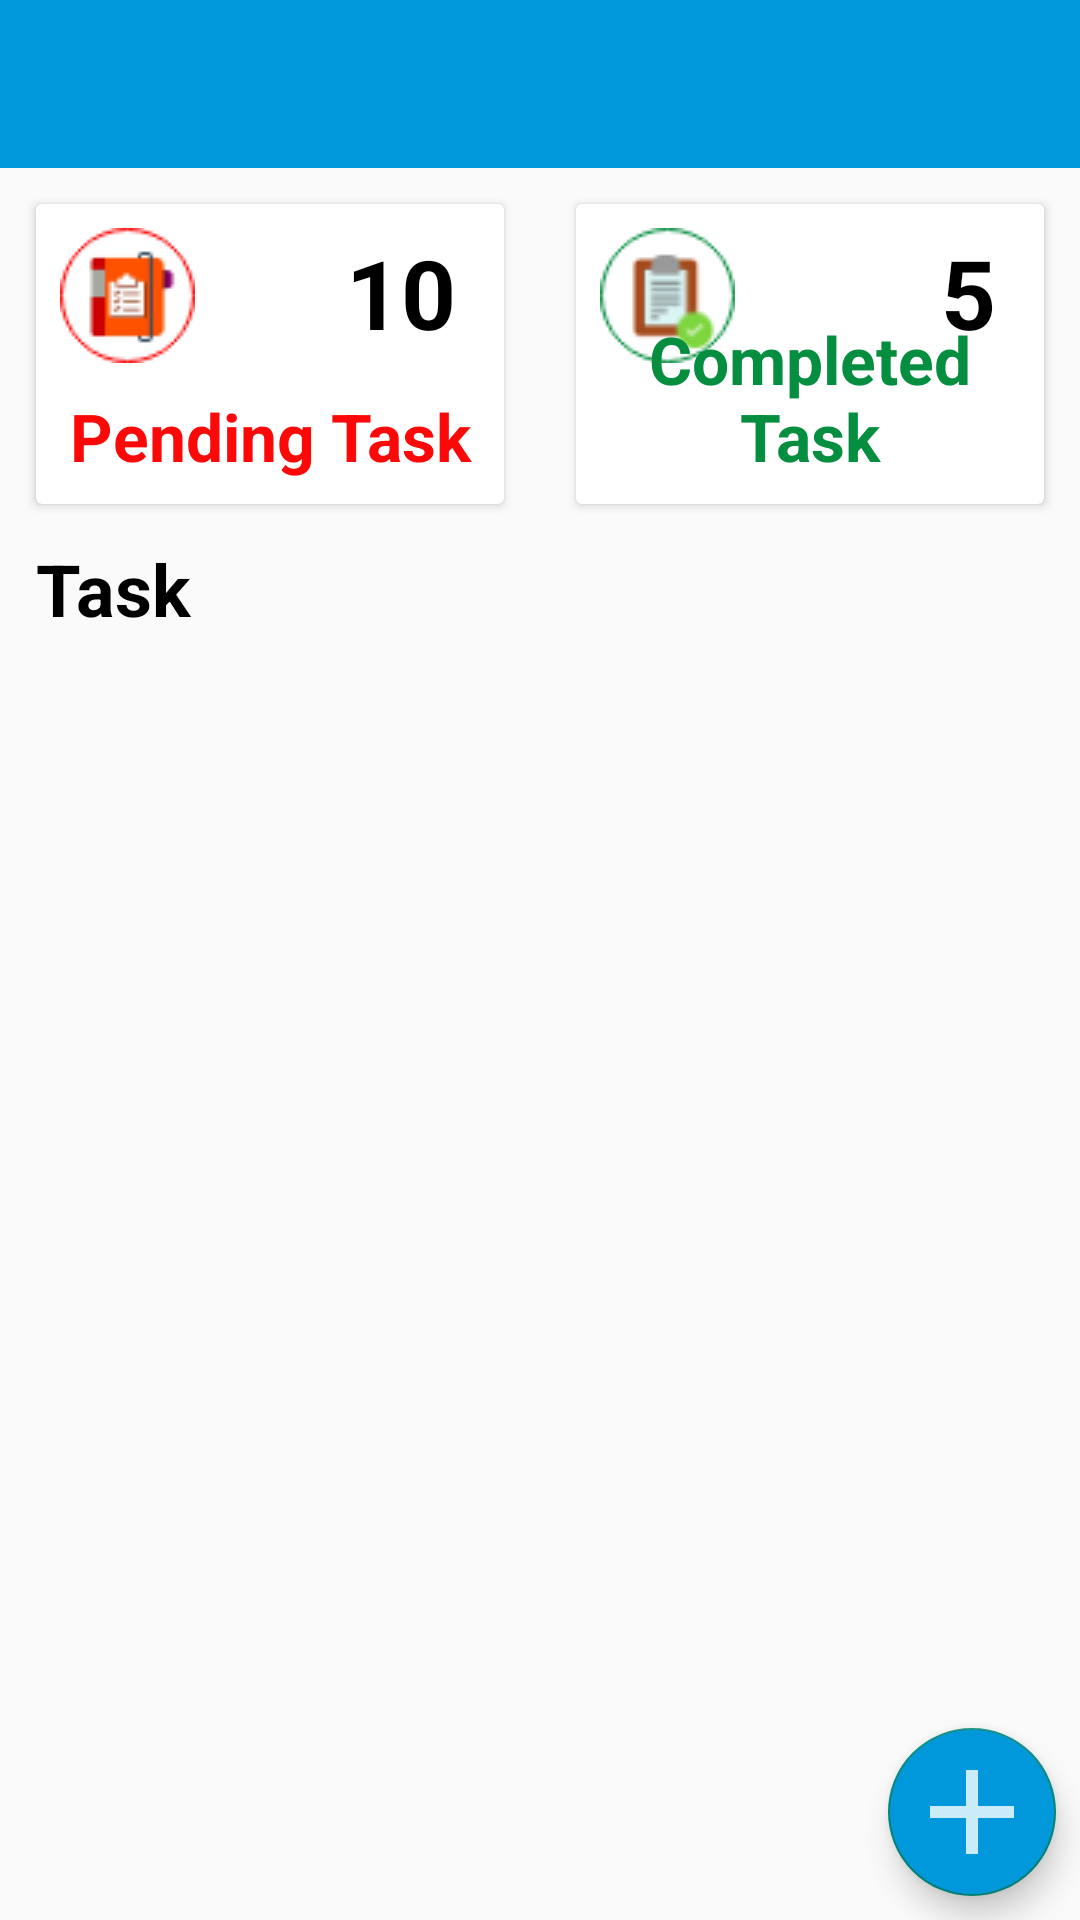

Where icons sit on this 1080px x 1920px app screen, as (x1, y1, x2, y2):
add: (888, 1728, 1056, 1896)
